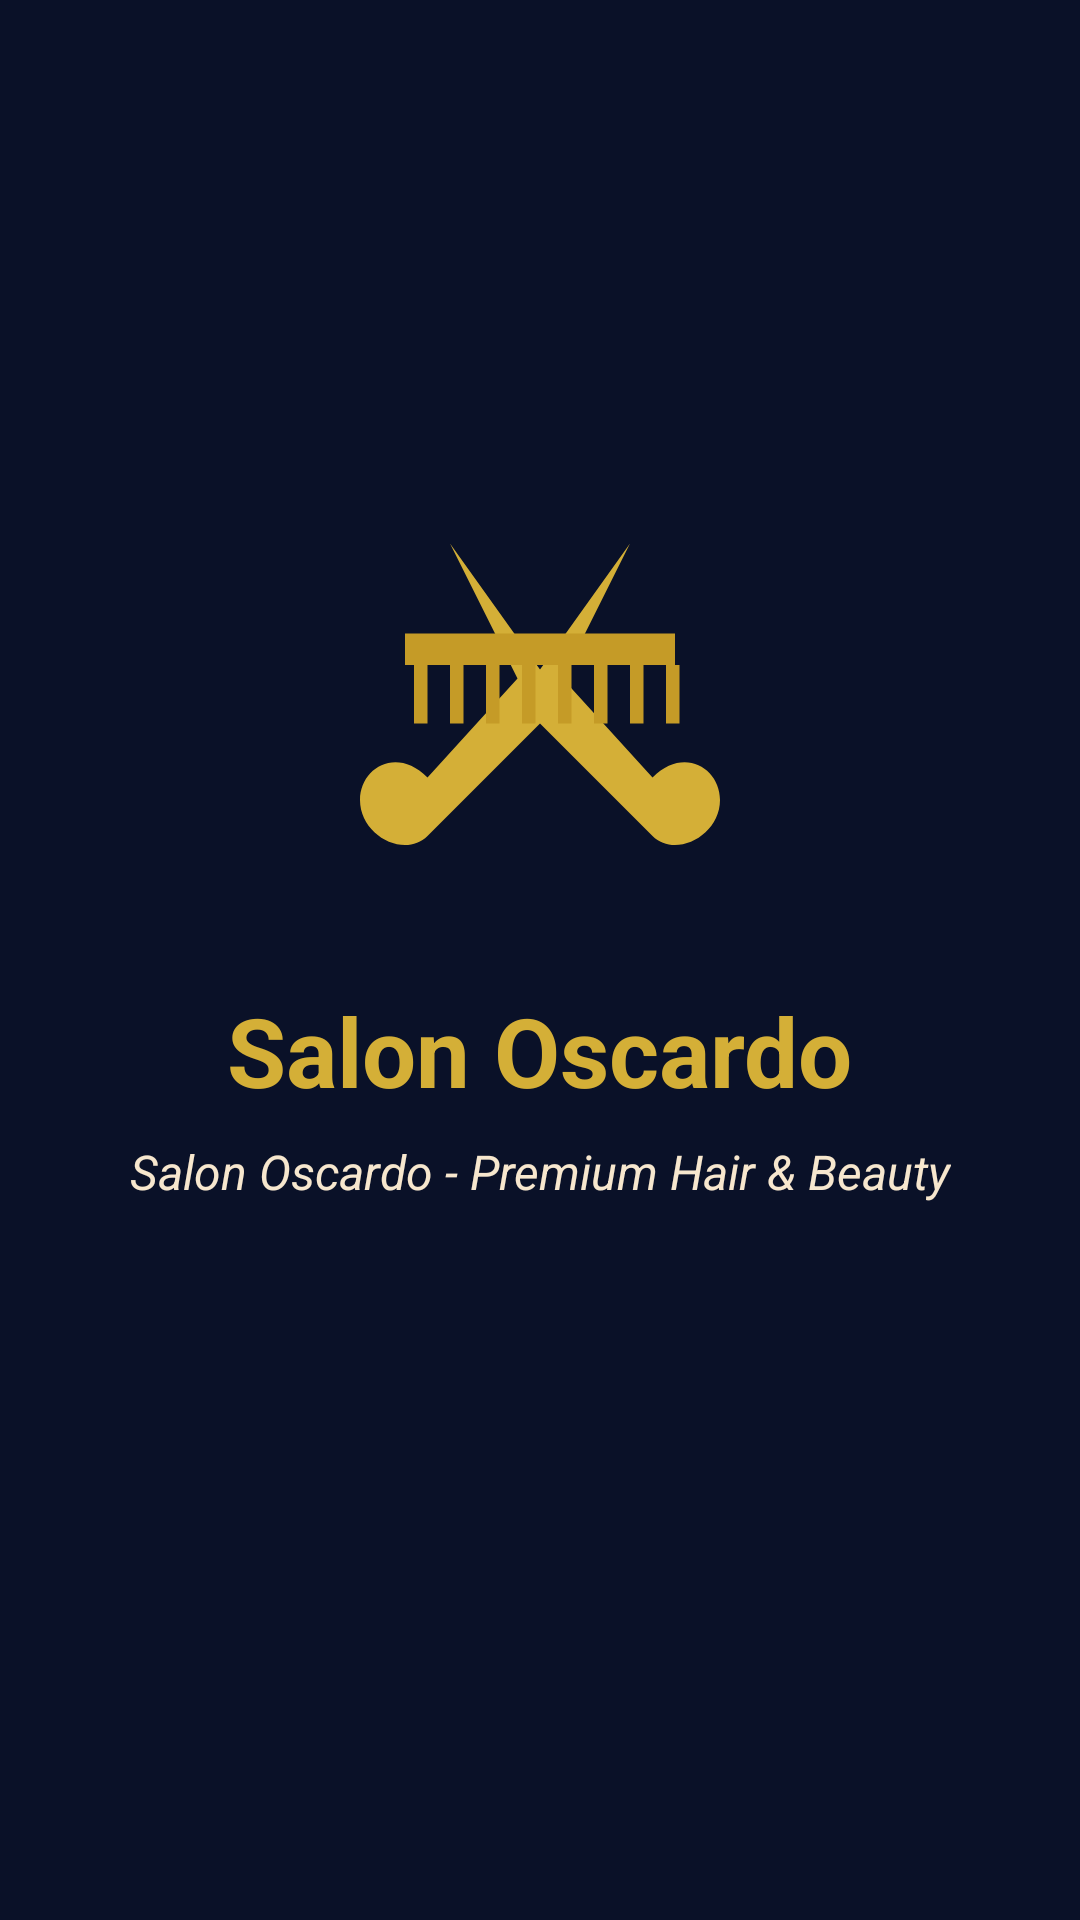

Icons on this 1080*1920 Android screen, each with its box as (x1, y1, x2, y2):
salon scissors comb: (360, 544, 720, 845)
